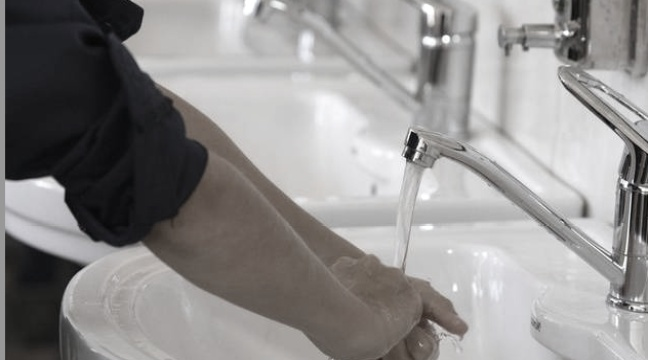washing hand: (244, 78, 646, 357)
